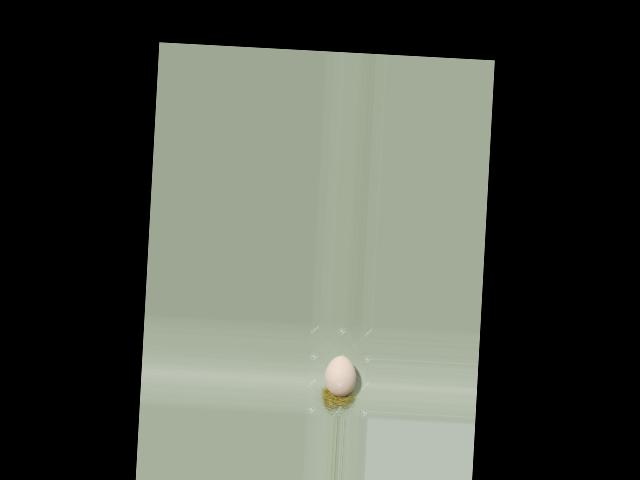egg: (324, 354, 357, 396)
